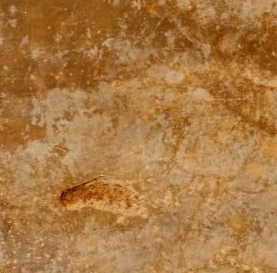Corrosion: (61, 184, 132, 208)
Spalling: (59, 177, 143, 217)
